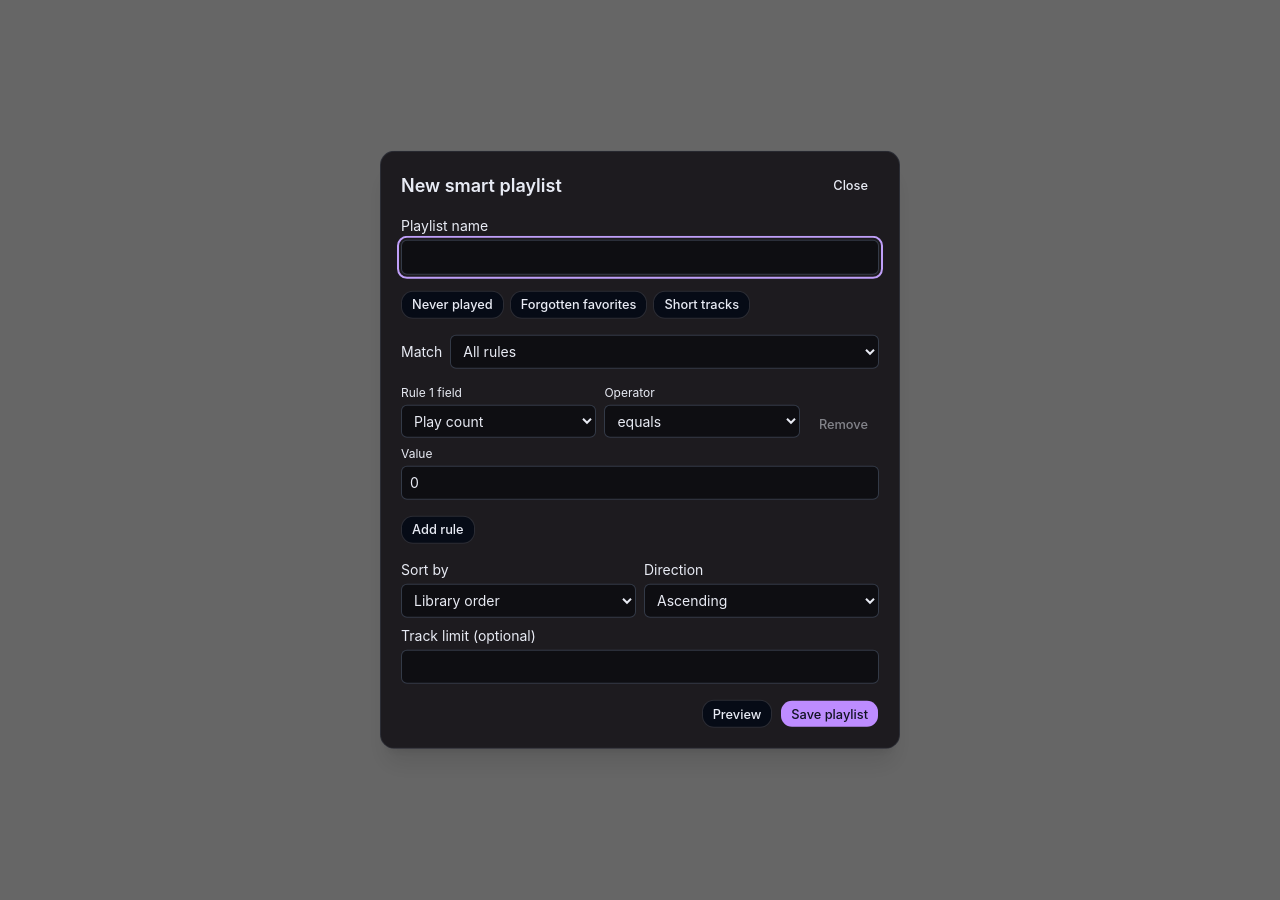
Test: retains a preview failure and allows a retry without saving
Click the button "Preview": (737, 714) x1=702 y1=700 x2=772 y2=728
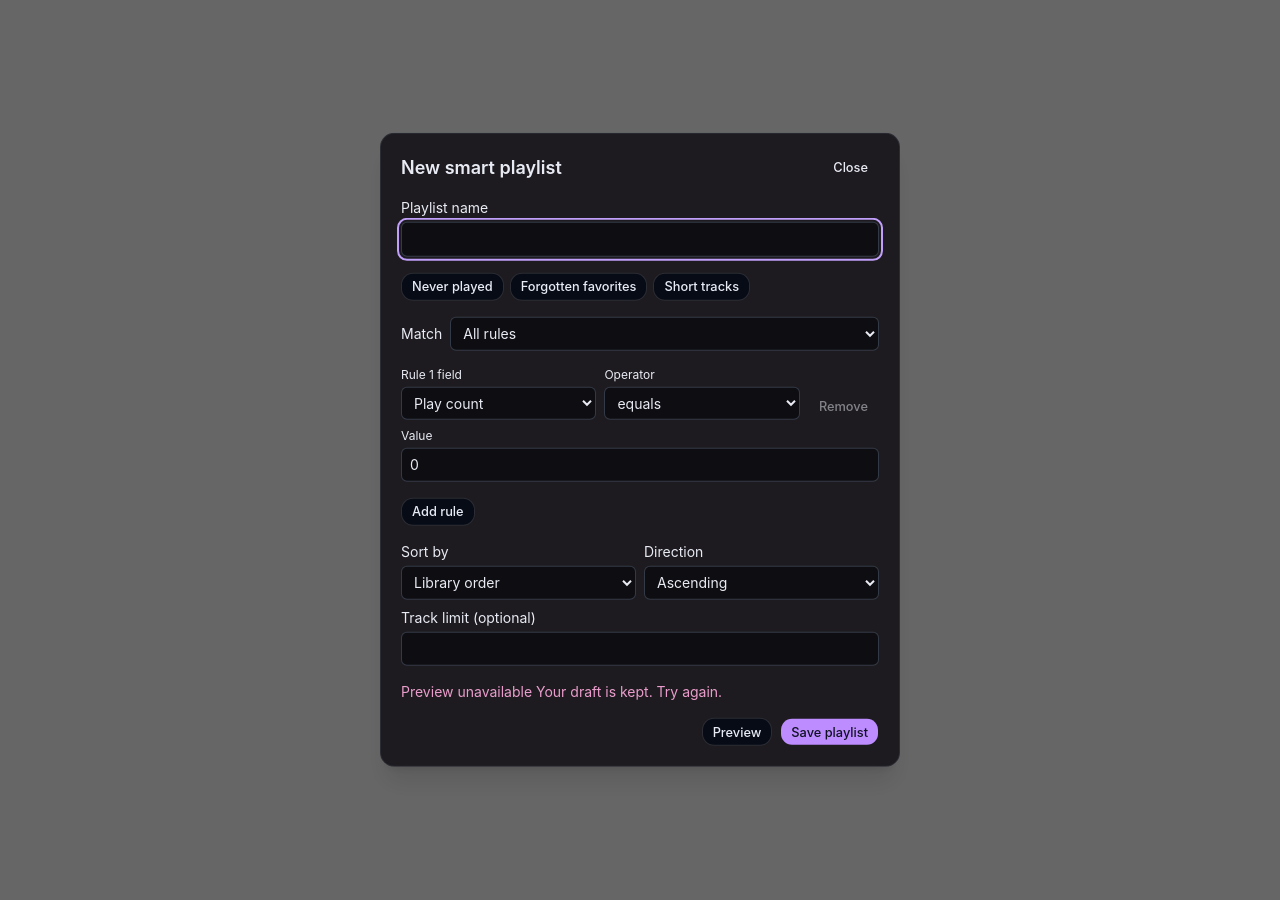
Check: the message "Preview unavailable Your draft is kept. Try again." is shown, box x1=401 y1=683 x2=722 y2=700
Click the button "Preview": (737, 732) x1=702 y1=718 x2=772 y2=746
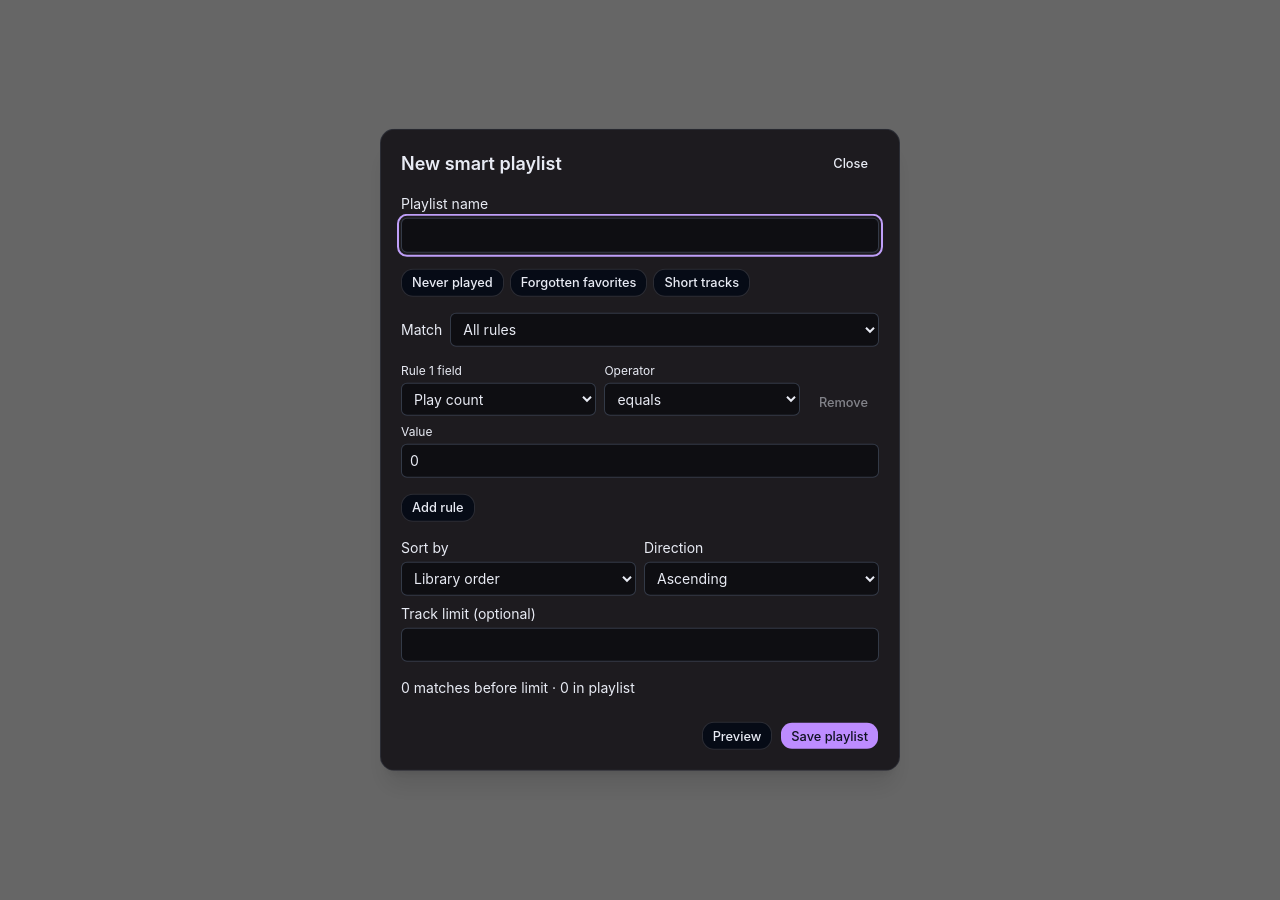
Check: the text "0 matches" is shown, box x1=401 y1=679 x2=635 y2=696
